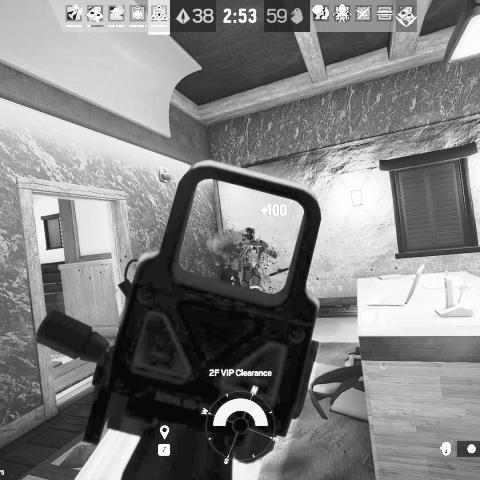Character: (228, 226, 280, 291)
Head: (242, 226, 255, 243)
